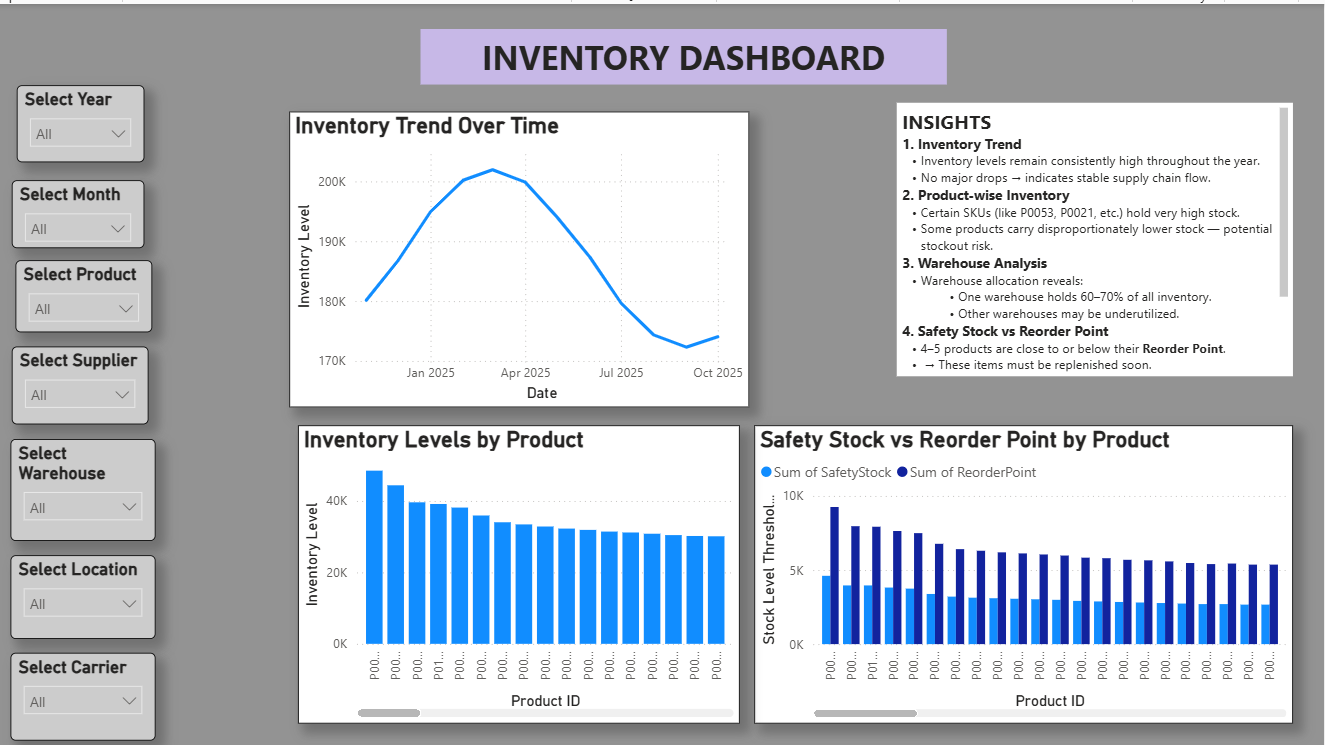

The dashboard page shown, as its layout file describes it:
{"tool":"powerbi","page":{"name":"Page 2","canvas":[1280,720],"ordinal":1},"visuals":[{"type":"clusteredColumnChart","title":"Safety Stock vs Reorder Point by Product","fields":{"Category":["products_table.ProductID"],"Y":["Sum(inventory_table.SafetyStock)","Sum(inventory_table.ReorderPoint)"]},"box":[730,406.2,520.1,288.2],"z":0},{"type":"lineChart","title":"Inventory Trend Over Time","fields":{"Category":["DateTable.Date"],"Y":["DateTable.Total Inventory"]},"box":[281.1,103.8,444,285.9],"z":1},{"type":"clusteredColumnChart","title":"Inventory Levels by Product","fields":{"Category":["products_table.ProductID"],"Y":["Sum(inventory_table.InventoryLevel)"]},"box":[289.5,406.2,426.8,288.2],"z":2},{"type":"slicer","title":"Select Year","fields":{"Values":["DateTable.Year"]},"box":[17.8,78.2,123.5,74.1],"z":3},{"type":"slicer","title":"Select Month","fields":{"Values":["DateTable.Month"]},"box":[13.7,170.2,127.6,65.9],"z":4},{"type":"slicer","title":"Select Product","fields":{"Values":["products_table.ProductID"]},"box":[16.5,247,131.7,70],"z":5},{"type":"slicer","title":"Select Supplier","fields":{"Values":["suppliers_table.Suppliers name "]},"box":[13.7,330.7,131.7,75.5],"z":6},{"type":"slicer","title":"Select Warehouse","fields":{"Values":["inventory_table.WarehouseID"]},"box":[12.3,419.9,140,98.8],"z":7},{"type":"slicer","title":"Select Location","fields":{"Values":["products_table.Location"]},"box":[12.3,532.4,140,81],"z":8},{"type":"slicer","title":"Select Carrier","fields":{"Values":["shipping_table.Carrier"]},"box":[12.3,625.7,140,85.1],"z":9},{"type":"textbox","box":[407.5,24.7,507.7,53.5],"z":10},{"type":"textbox","box":[867.4,95.3,382.4,264.2],"z":11}]}

Visuals, with their boxes in screenshot pixels (x1, y1, x2, y2), scaled from the page's 1280x720 canvas onto the 1325x745 screenshot:
"Safety Stock vs Reorder Point by Product" clusteredColumnChart: (x1=756, y1=420, x2=1294, y2=719)
"Inventory Trend Over Time" lineChart: (x1=291, y1=107, x2=751, y2=403)
"Inventory Levels by Product" clusteredColumnChart: (x1=300, y1=420, x2=741, y2=719)
"Select Year" slicer: (x1=18, y1=81, x2=146, y2=158)
"Select Month" slicer: (x1=14, y1=176, x2=146, y2=244)
"Select Product" slicer: (x1=17, y1=256, x2=153, y2=328)
"Select Supplier" slicer: (x1=14, y1=342, x2=151, y2=420)
"Select Warehouse" slicer: (x1=13, y1=434, x2=158, y2=537)
"Select Location" slicer: (x1=13, y1=551, x2=158, y2=635)
"Select Carrier" slicer: (x1=13, y1=647, x2=158, y2=735)
textbox: (x1=422, y1=26, x2=947, y2=81)
textbox: (x1=898, y1=99, x2=1294, y2=372)
